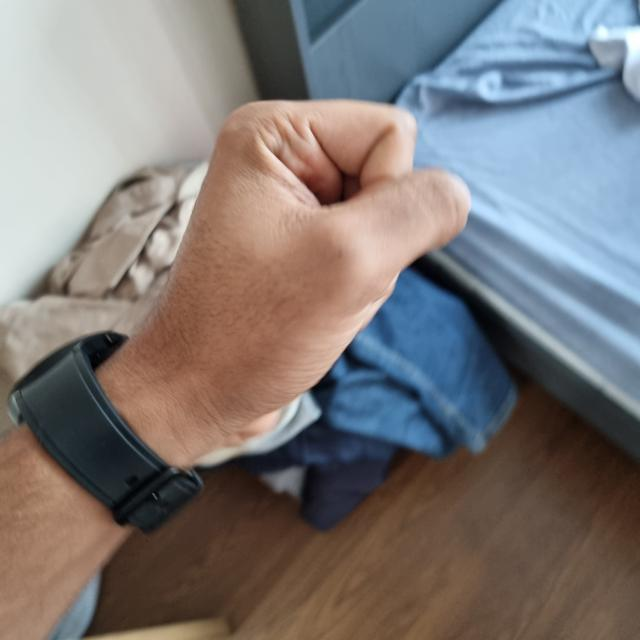Rock: (113, 97, 466, 449)
